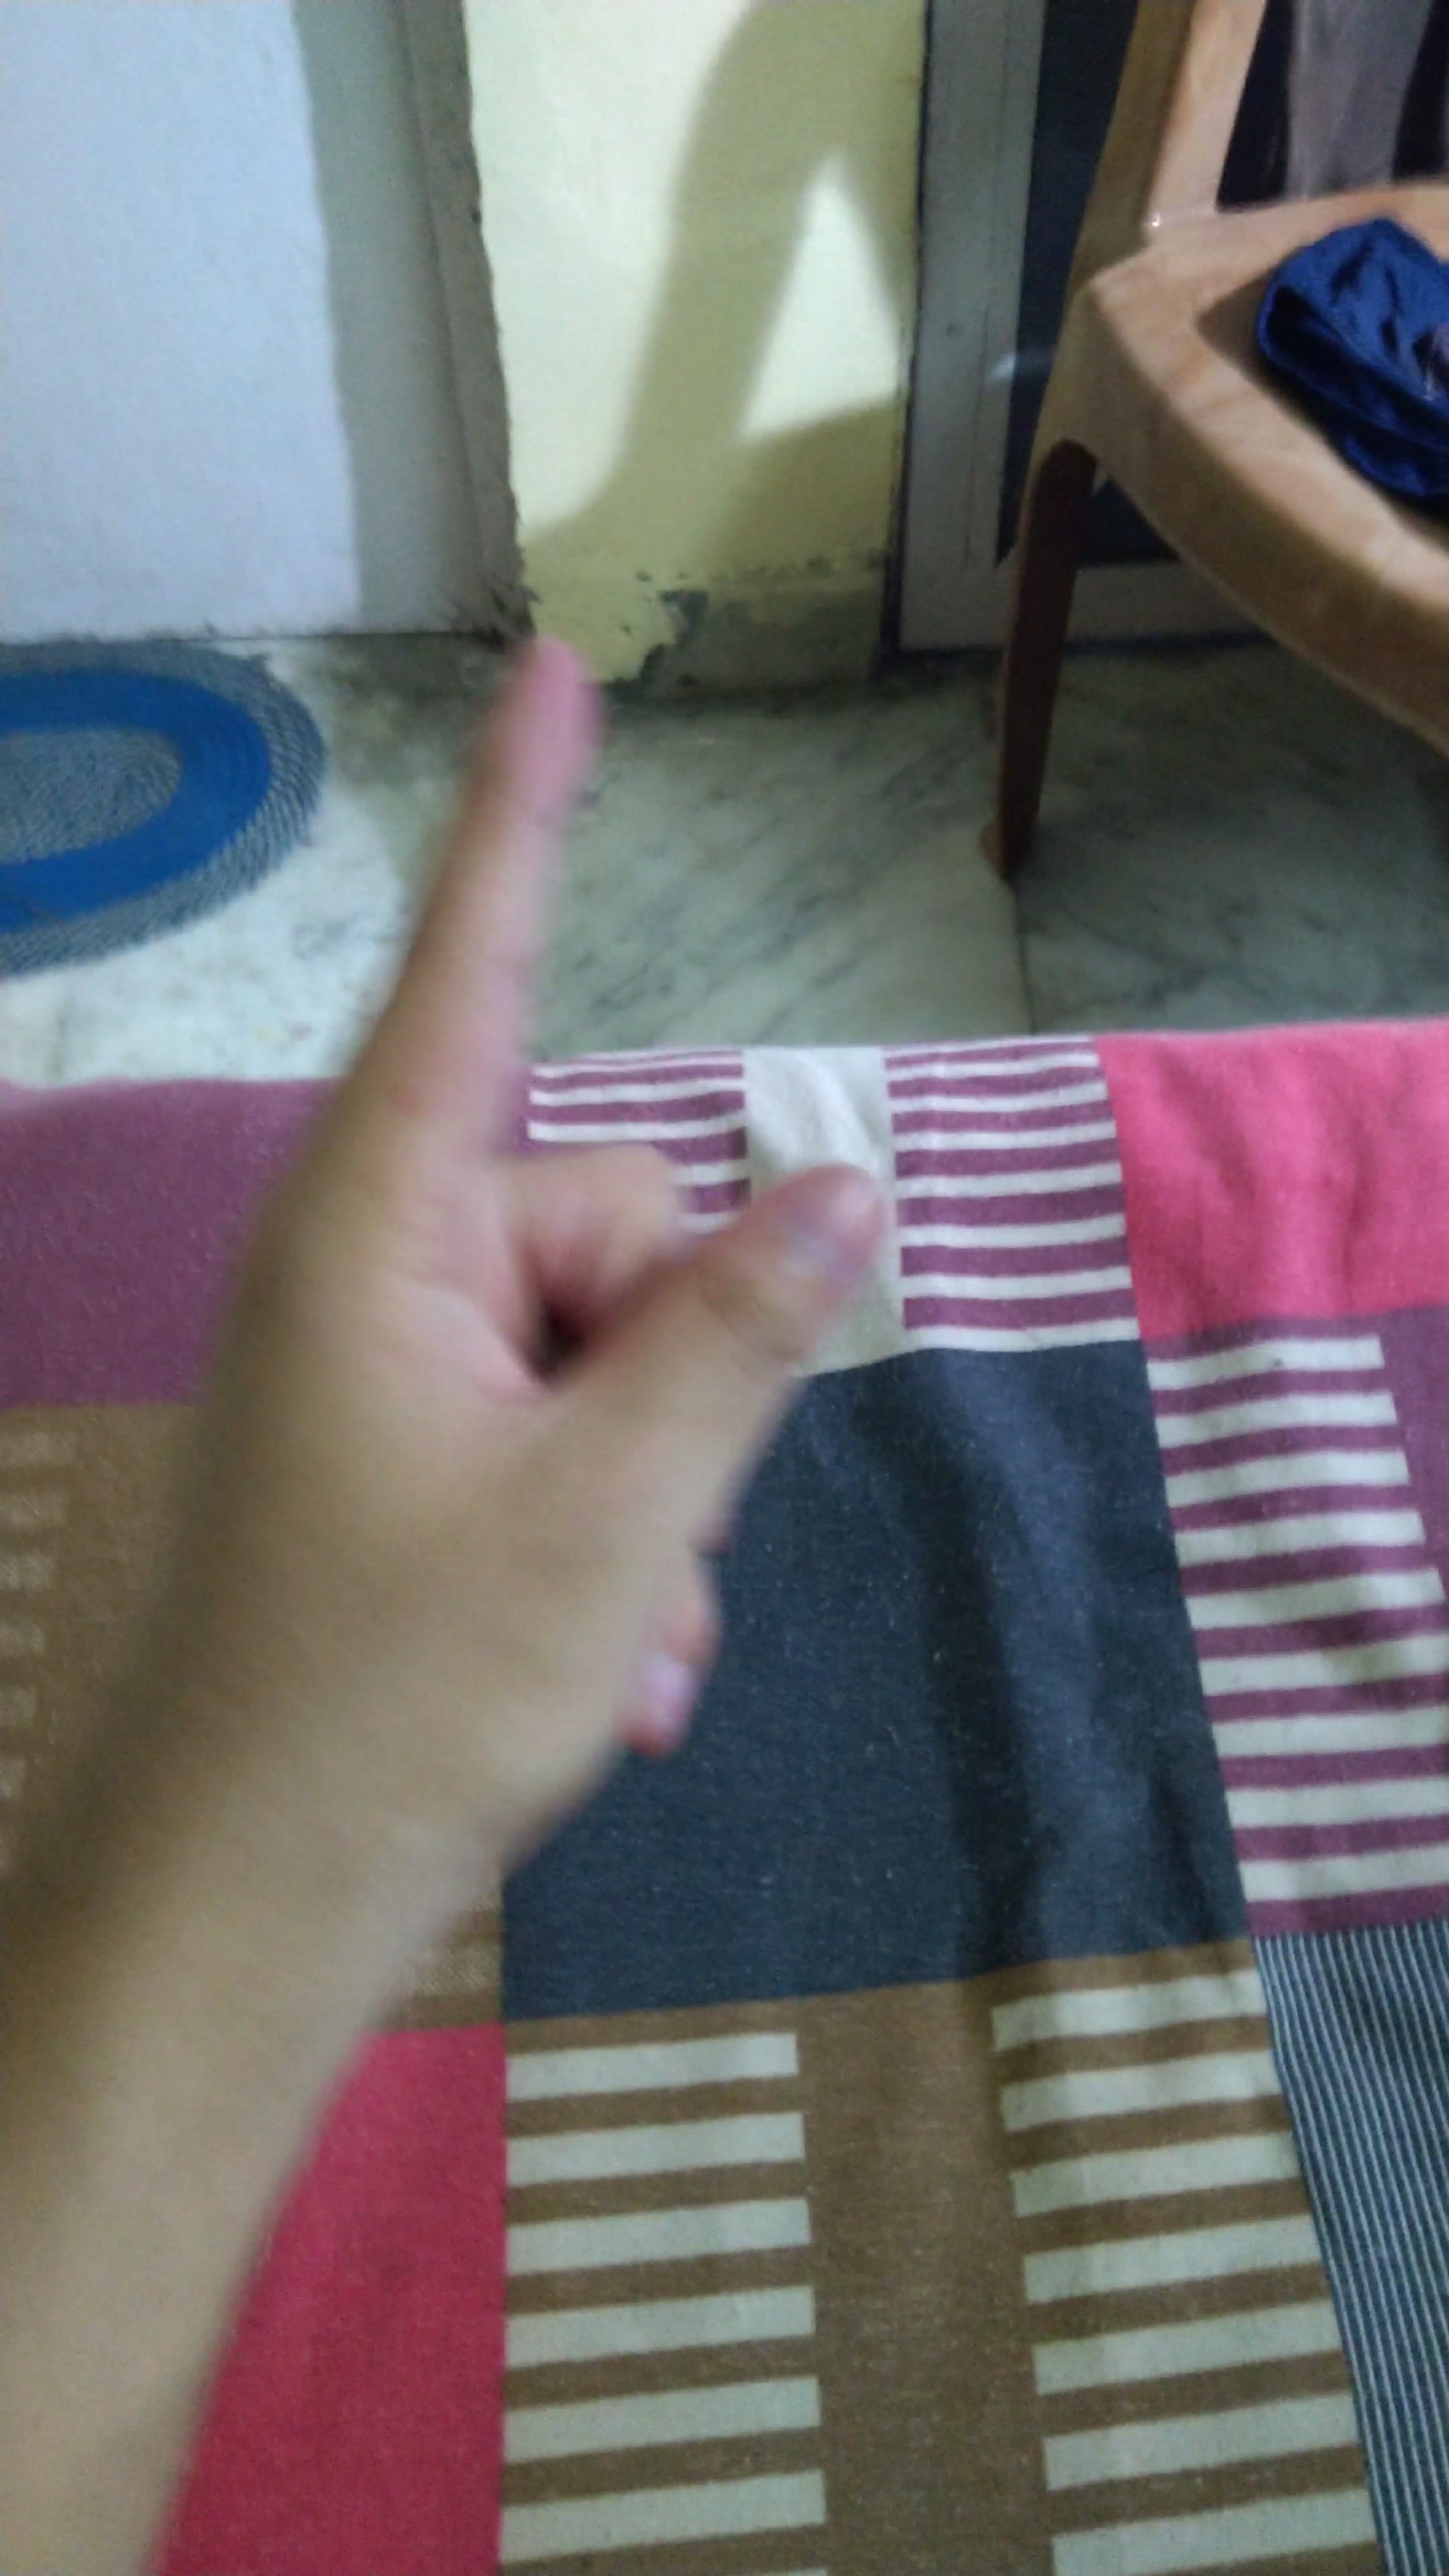hand: (142, 649, 890, 1851)
